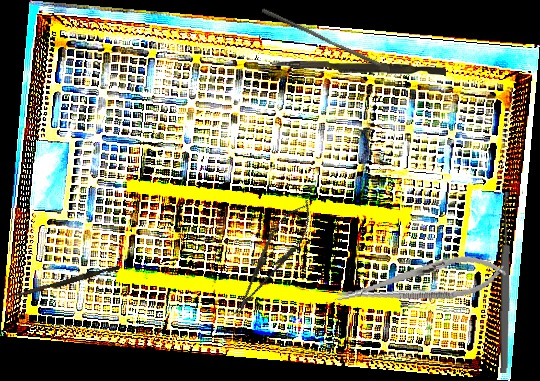Needle Holder: (221, 193, 323, 324), (332, 248, 510, 317)
Pusher: (259, 7, 384, 69), (9, 262, 121, 303), (269, 60, 447, 76)
Surgical Spoon: (498, 191, 513, 374)
